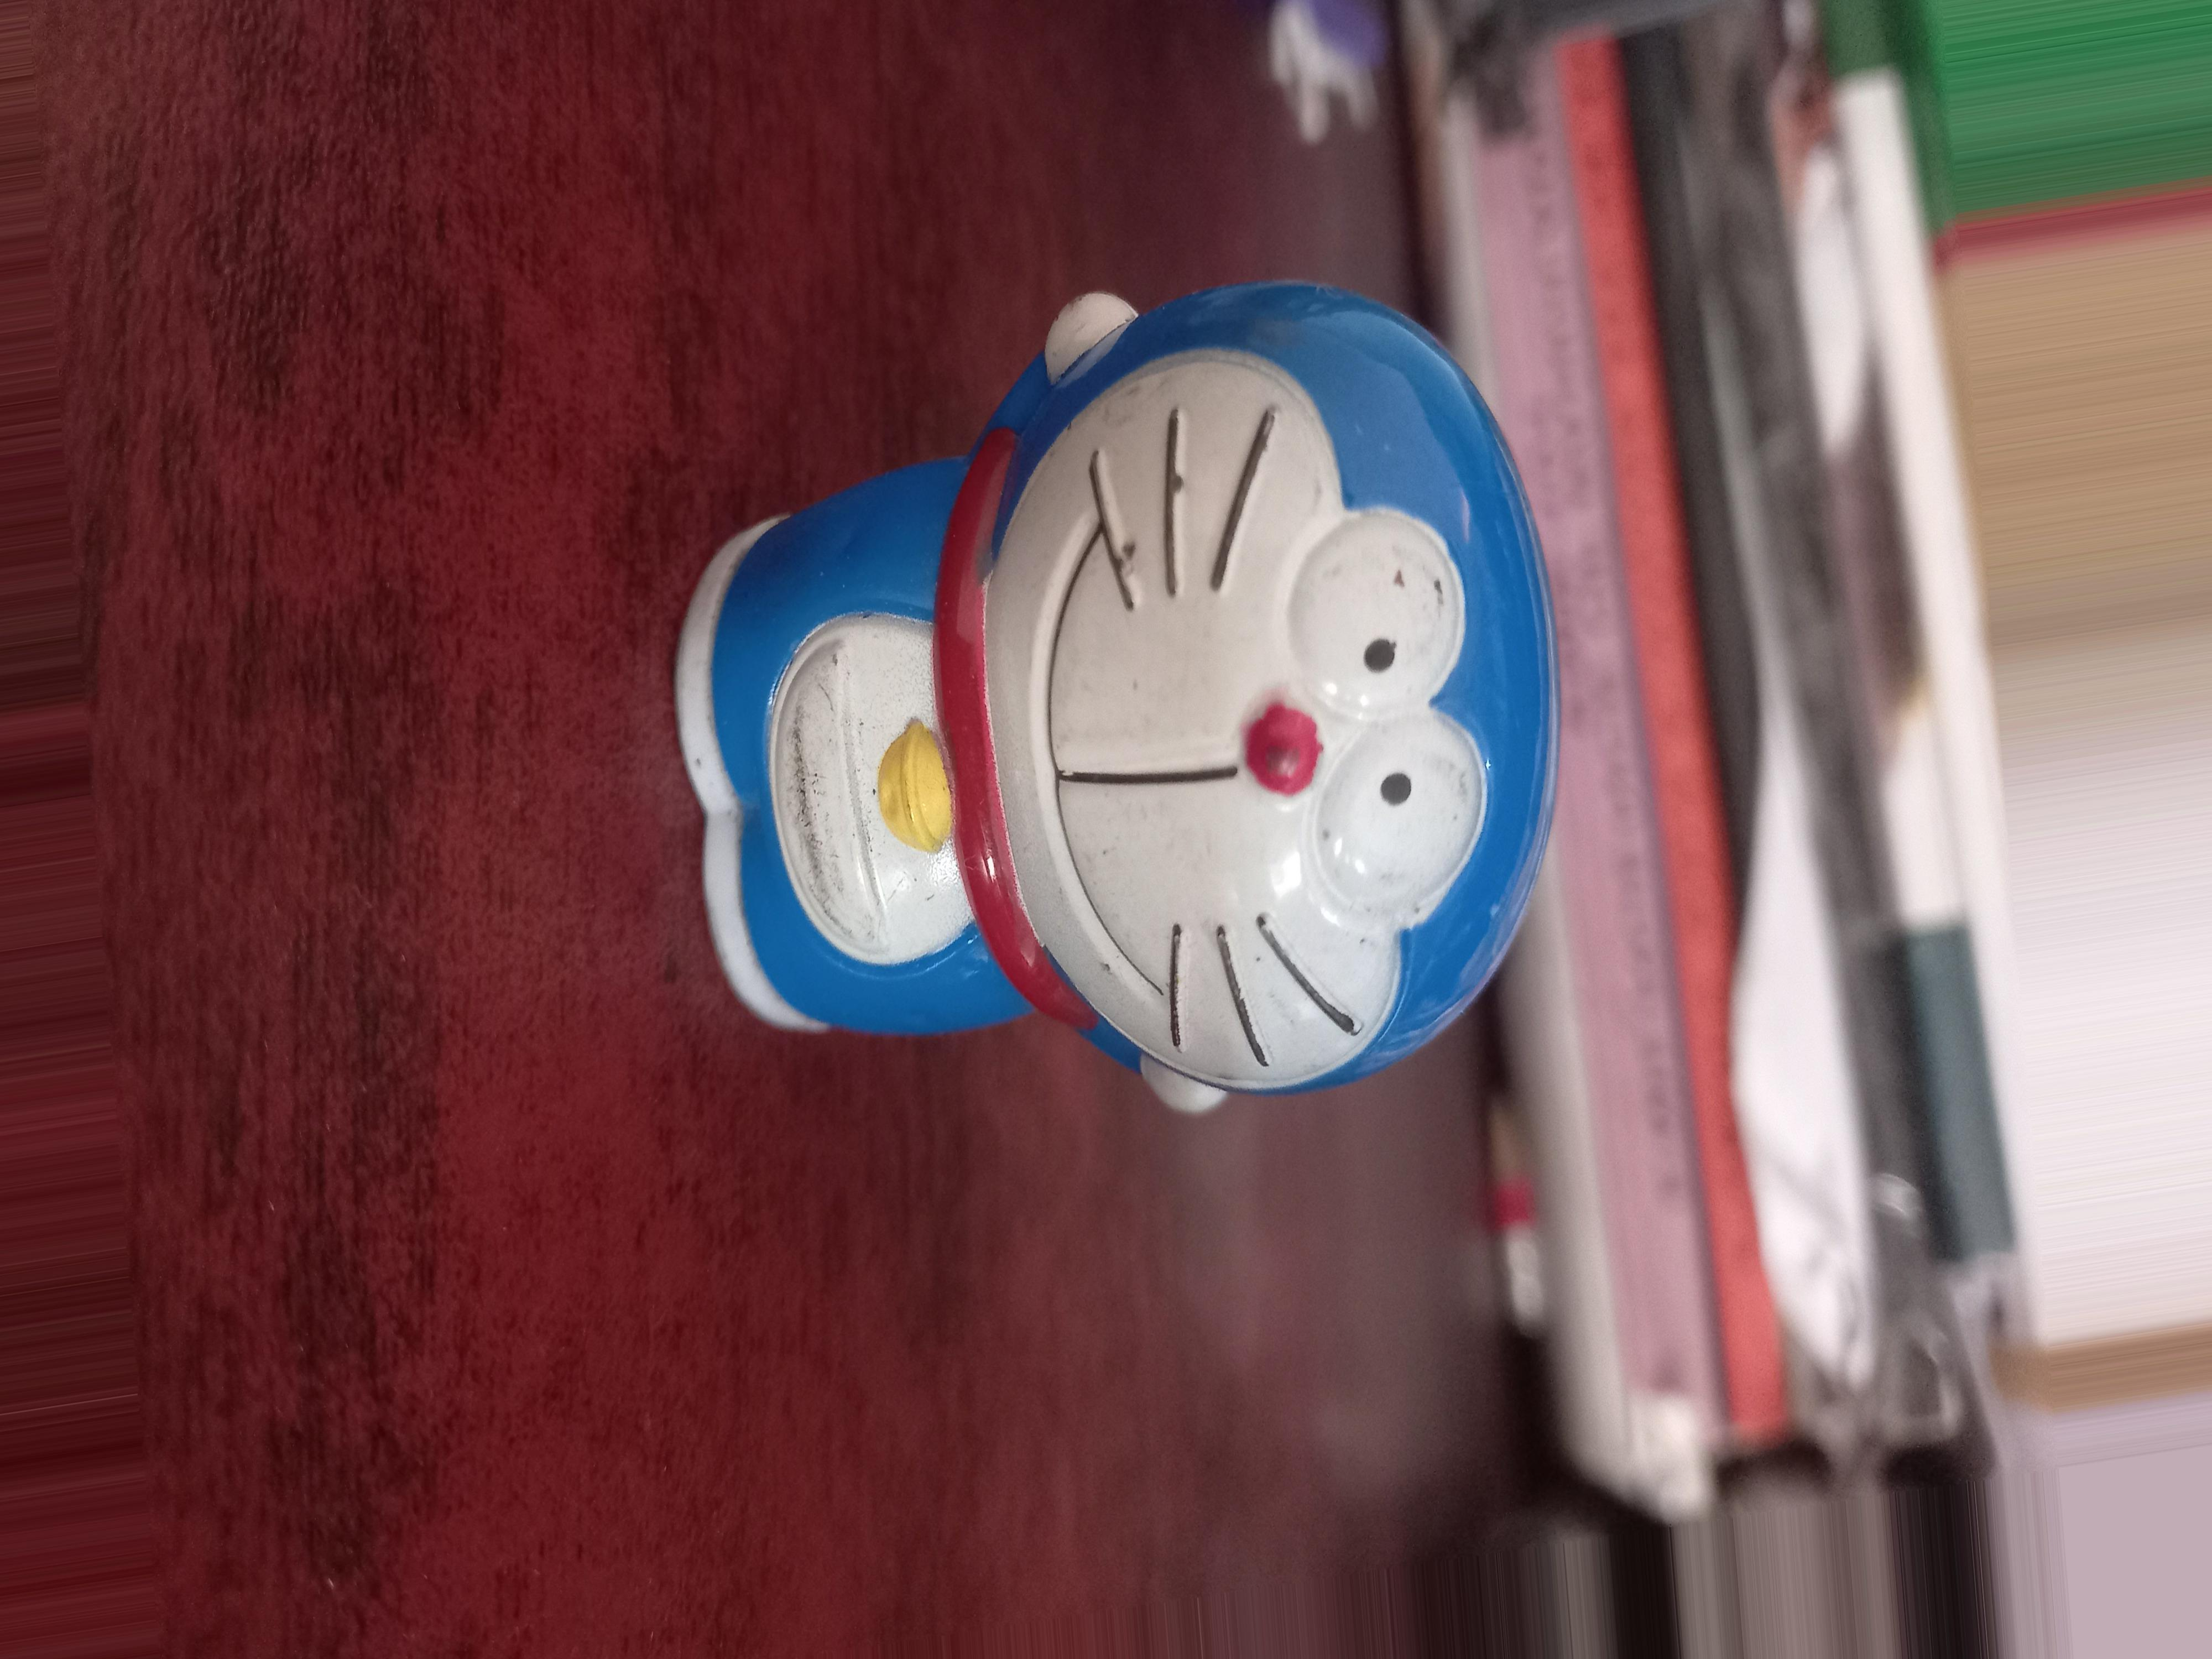doraemon: (674, 314, 1552, 1157)
